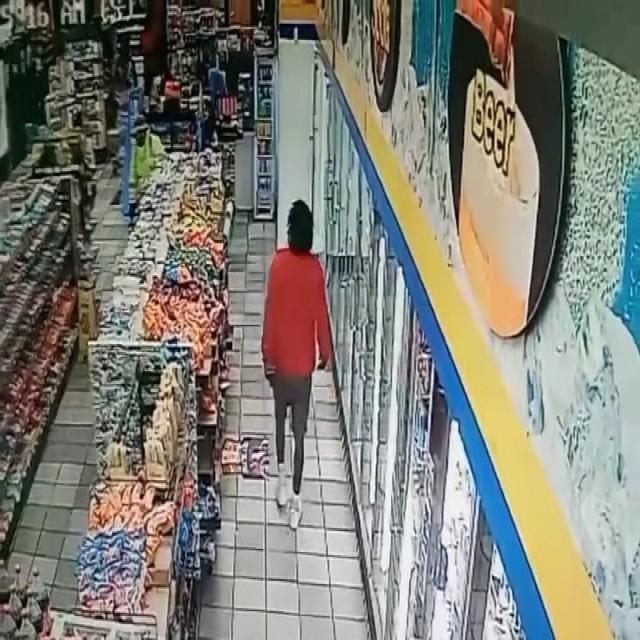Normal: (262, 192, 334, 539)
